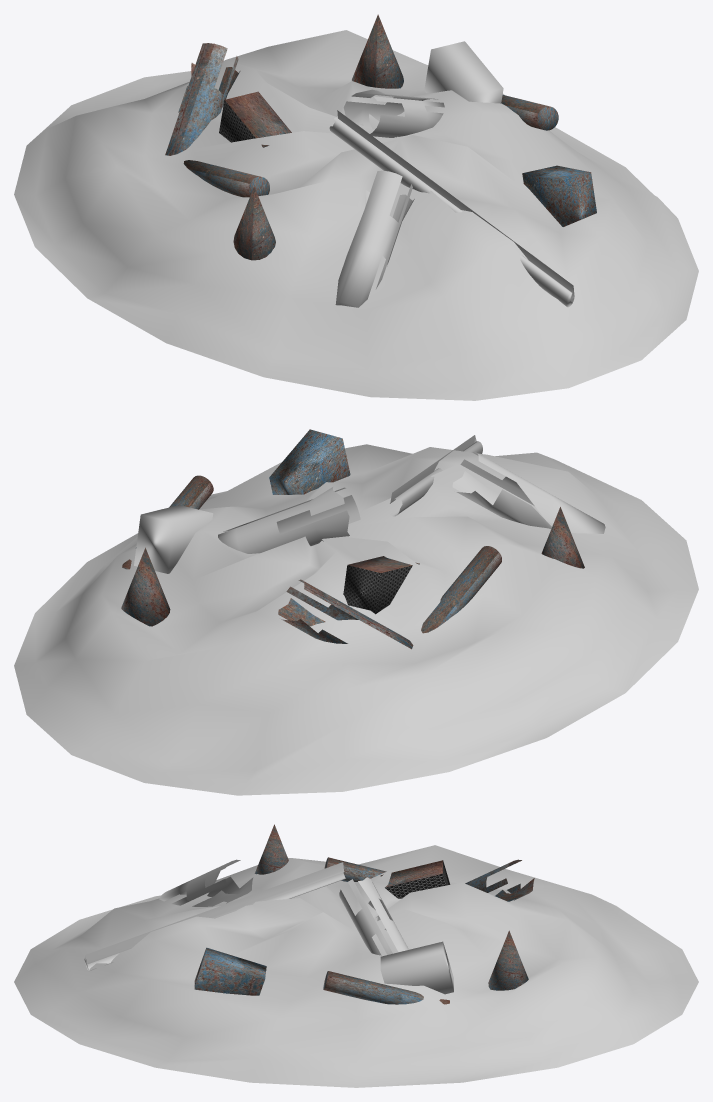
File: debris2.fbx
3 renders of one model, top to bottom at view 1: azimuth 30°, elevation 25°; view 2: azimuth 150°, elevation 25°; view 3: azimuth 270°, elevation 25°, orthographic. The views are drawn at different scales.
Parts seen in each view (by area): view 1: pSphere1, pCylinder7, pCylinder5, pCylinder6, pCube2, pCylinder4, pCube1, pCube4, pCone1, pCone1_001, pCylinder1, pCylinder2; view 2: pSphere1, pCylinder4, pCylinder7, pCube1, pCube2, pCube4, pCylinder6, pCylinder1, pCone1, pCylinder5, pCone1_001, pCylinder2; view 3: pSphere1, pCylinder5, pCube2, pCube1, pCylinder4, pCylinder7, pCylinder2, pCube4, pCone1, pCylinder6, pCone1_001, pCylinder1.
Boxes of the visible parts, bbox=[...] form: pSphere1: bbox=[14, 30, 698, 400]; pCylinder7: bbox=[335, 170, 414, 307]; pCylinder5: bbox=[329, 110, 574, 307]; pCylinder6: bbox=[165, 43, 240, 155]; pCube2: bbox=[424, 41, 503, 103]; pCylinder4: bbox=[343, 89, 444, 137]; pCube1: bbox=[522, 165, 596, 226]; pCube4: bbox=[219, 91, 291, 147]; pCone1: bbox=[352, 14, 403, 88]; pCone1_001: bbox=[233, 186, 275, 260]; pCylinder1: bbox=[183, 160, 269, 197]; pCylinder2: bbox=[501, 95, 558, 130]; pSphere1: bbox=[14, 444, 698, 795]; pCylinder4: bbox=[218, 487, 360, 553]; pCylinder7: bbox=[452, 452, 605, 533]; pCube1: bbox=[269, 429, 350, 494]; pCube2: bbox=[134, 505, 213, 573]; pCube4: bbox=[343, 556, 419, 614]; pCylinder6: bbox=[278, 579, 413, 649]; pCylinder1: bbox=[421, 546, 501, 633]; pCone1: bbox=[121, 547, 170, 626]; pCylinder5: bbox=[390, 435, 482, 516]; pCone1_001: bbox=[541, 507, 584, 568]; pCylinder2: bbox=[122, 475, 213, 569]; pSphere1: bbox=[14, 845, 698, 1087]; pCylinder5: bbox=[84, 862, 345, 971]; pCube2: bbox=[380, 941, 453, 994]; pCube1: bbox=[194, 947, 266, 995]; pCylinder4: bbox=[339, 877, 408, 955]; pCylinder7: bbox=[159, 859, 253, 906]; pCylinder2: bbox=[323, 971, 449, 1004]; pCube4: bbox=[380, 860, 450, 898]; pCone1: bbox=[488, 930, 528, 990]; pCylinder6: bbox=[465, 859, 534, 901]; pCone1_001: bbox=[254, 824, 288, 874]; pCylinder1: bbox=[324, 857, 386, 881].
Bounding box in the file's own units: 13.9 × 3.37 × 19.
